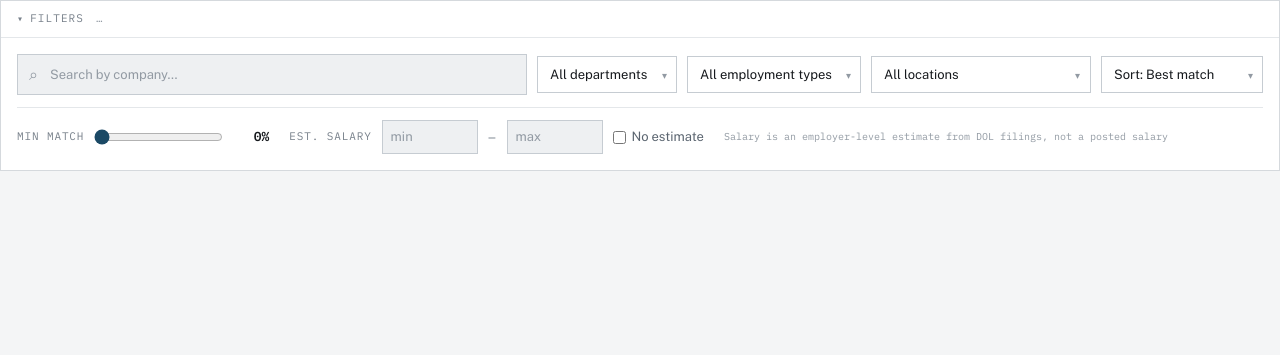
Test: JobFilters › type-to-filters the location list
Click the button with aria-label "Filter by location" at {"x": 981, "y": 75}, box left=871, top=56, right=1091, bottom=93
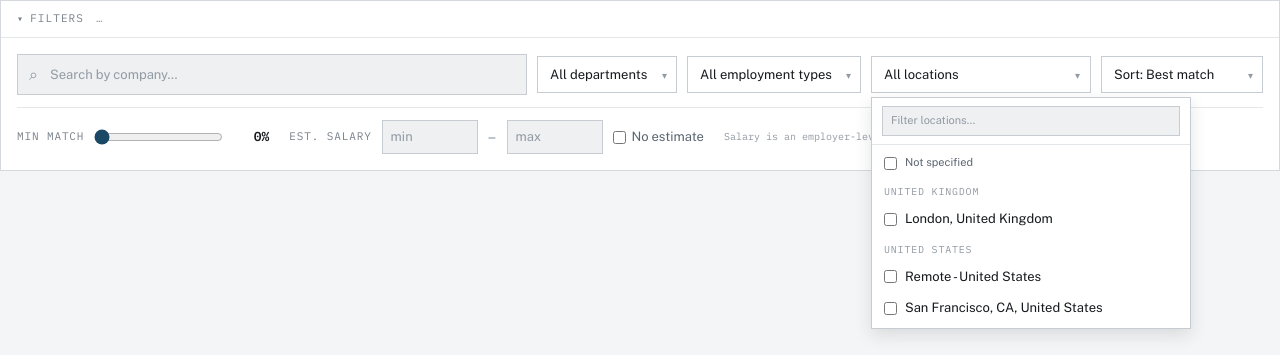
Expected: the checkbox labelled "London, United Kingdom" is shown, left=884, top=213, right=897, bottom=226
Type "london" into the field with placeholder "Filter locations…" at {"x": 1031, "y": 121}, box left=882, top=106, right=1180, bottom=136
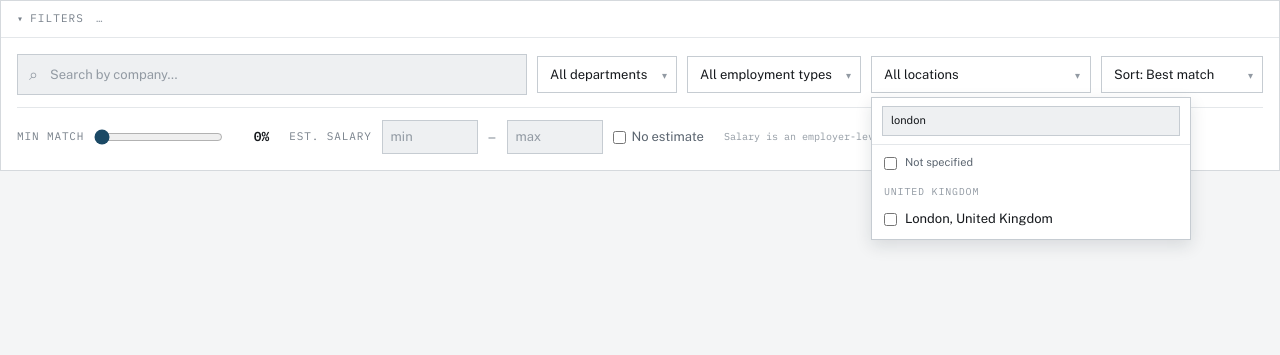
Expected: the checkbox labelled "London, United Kingdom" is shown, left=884, top=213, right=897, bottom=226
Expected: the label "San Francisco, CA, United States" is gone
